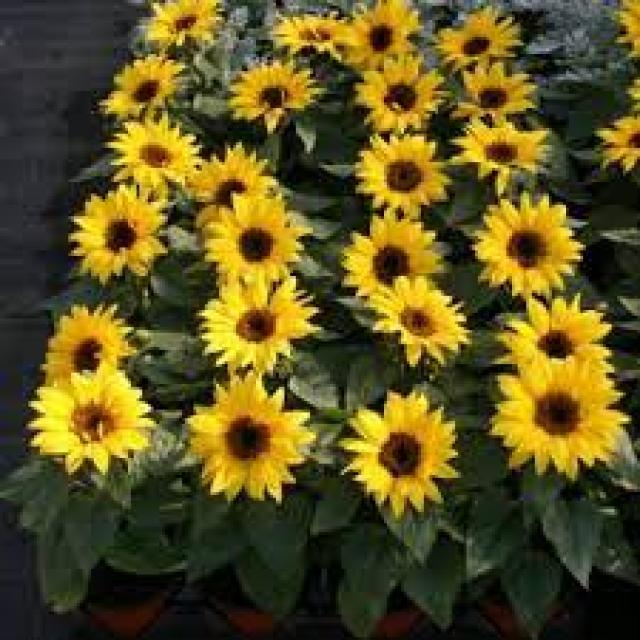sunflower: (178, 359, 321, 509), (482, 351, 638, 487), (19, 346, 161, 482), (333, 383, 463, 519), (190, 259, 326, 377), (471, 190, 592, 307), (338, 199, 460, 308), (488, 286, 618, 385), (198, 190, 320, 295), (61, 179, 178, 283), (360, 275, 479, 373), (38, 299, 147, 405), (346, 124, 454, 224), (446, 108, 563, 199), (103, 111, 210, 204), (181, 140, 287, 225), (222, 55, 328, 136), (351, 54, 450, 140), (436, 56, 542, 129), (336, 0, 435, 72), (100, 51, 196, 122), (432, 5, 528, 72), (130, 0, 234, 52), (263, 13, 364, 61), (595, 110, 640, 178), (611, 0, 640, 62), (623, 76, 640, 123)
